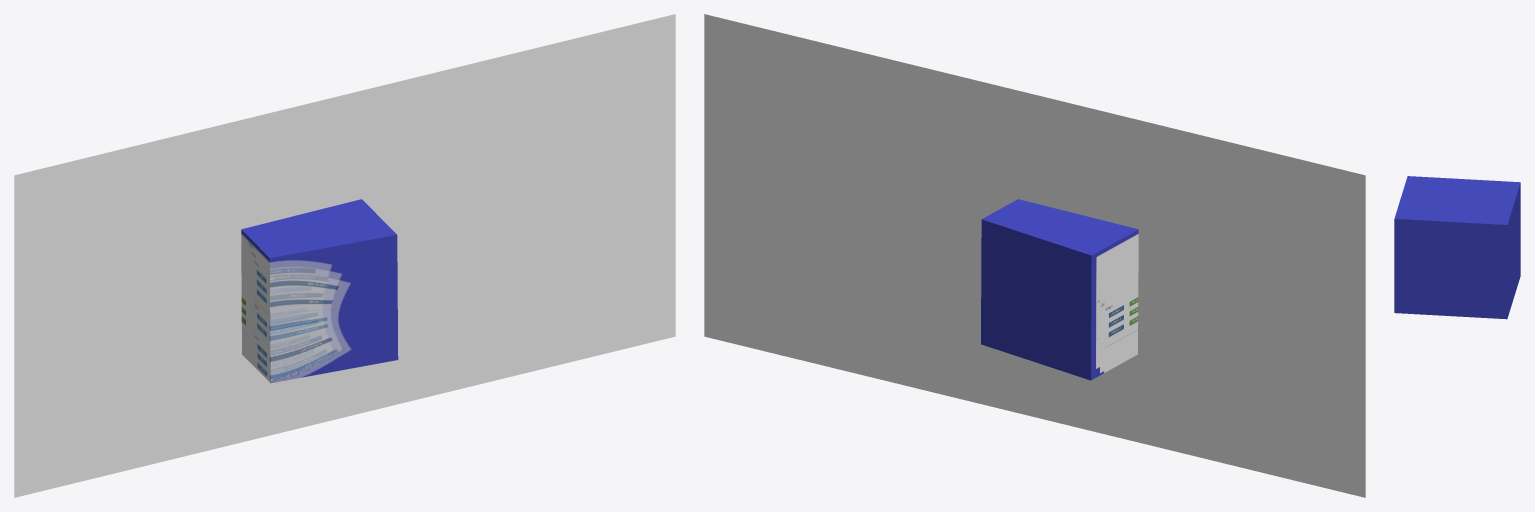
The picture shows the model from 3 angles, left to right: view 1: azimuth 30°, elevation 25°; view 2: azimuth 150°, elevation 25°; view 3: azimuth 270°, elevation 25°; orthographic projection. The views are drawn at different scales.
Visible parts, largest first — view 1: root (×2); view 2: root (×2); view 3: root.
Boxes of the visible parts, left/top/right/bottom form: root (×2): left=14, top=14, right=675, bottom=497; root (×2): left=704, top=14, right=1365, bottom=497; root: left=1394, top=176, right=1520, bottom=319.
Size of the model in its own units: 1.35 by 0.629 by 0.2979.
2 materials, 2 textured.
